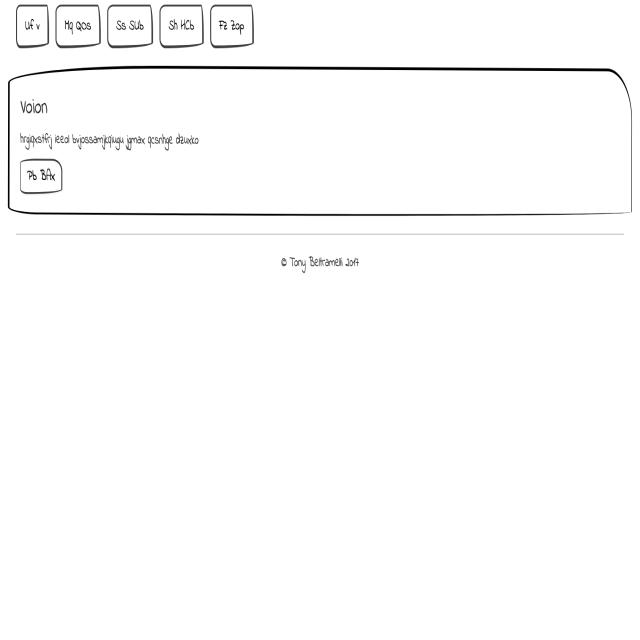Button: (18, 158, 65, 195)
Card: (6, 66, 634, 218)
Footer: (0, 232, 640, 640)
Heading 6: (15, 90, 52, 120)
Navigation Bar: (12, 0, 254, 51)
Paragraph: (13, 127, 202, 156)
